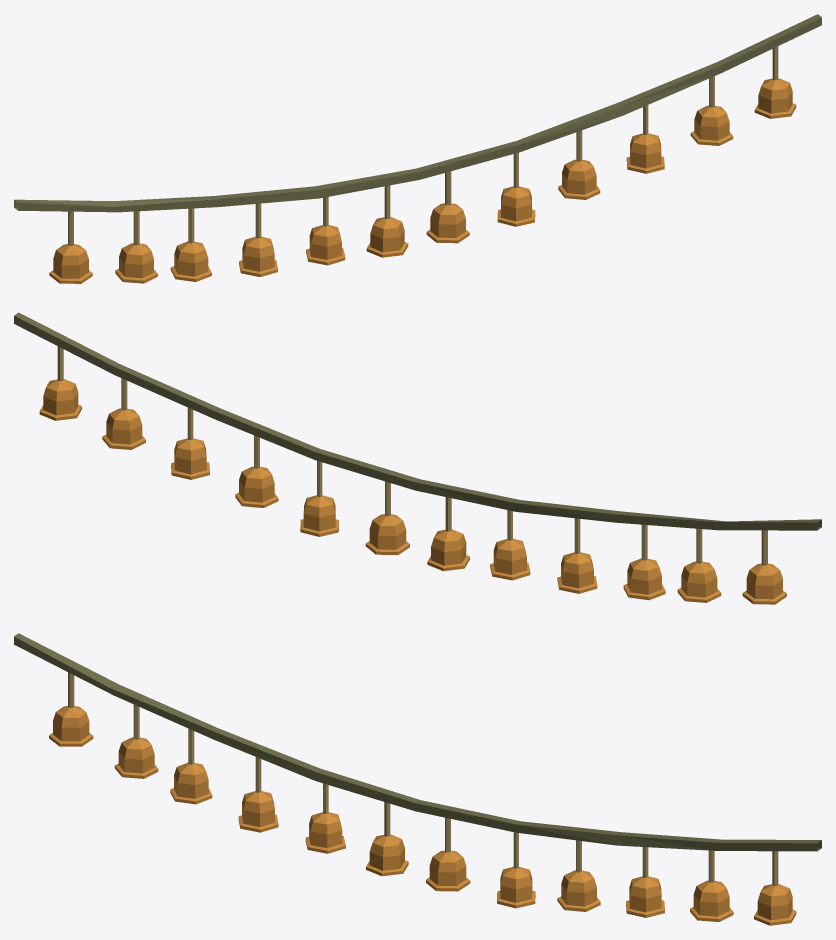
File: Rope_Bells_1 Asia.fbx
3 views of the same model, one above another, from view 1: azimuth 30°, elevation 25°; view 2: azimuth 150°, elevation 25°; view 3: azimuth 330°, elevation 25° (orthographic). The views are drawn at different scales.
Visible parts, largest first — view 1: Rope_Bells_1; view 2: Rope_Bells_1; view 3: Rope_Bells_1.
Boxes of the visible parts, <box> form: Rope_Bells_1: <box>14,14,821,283</box>; Rope_Bells_1: <box>14,312,821,604</box>; Rope_Bells_1: <box>14,633,821,925</box>.
Size of the model in its own units: 2.5 by 0.4198 by 0.1672.
